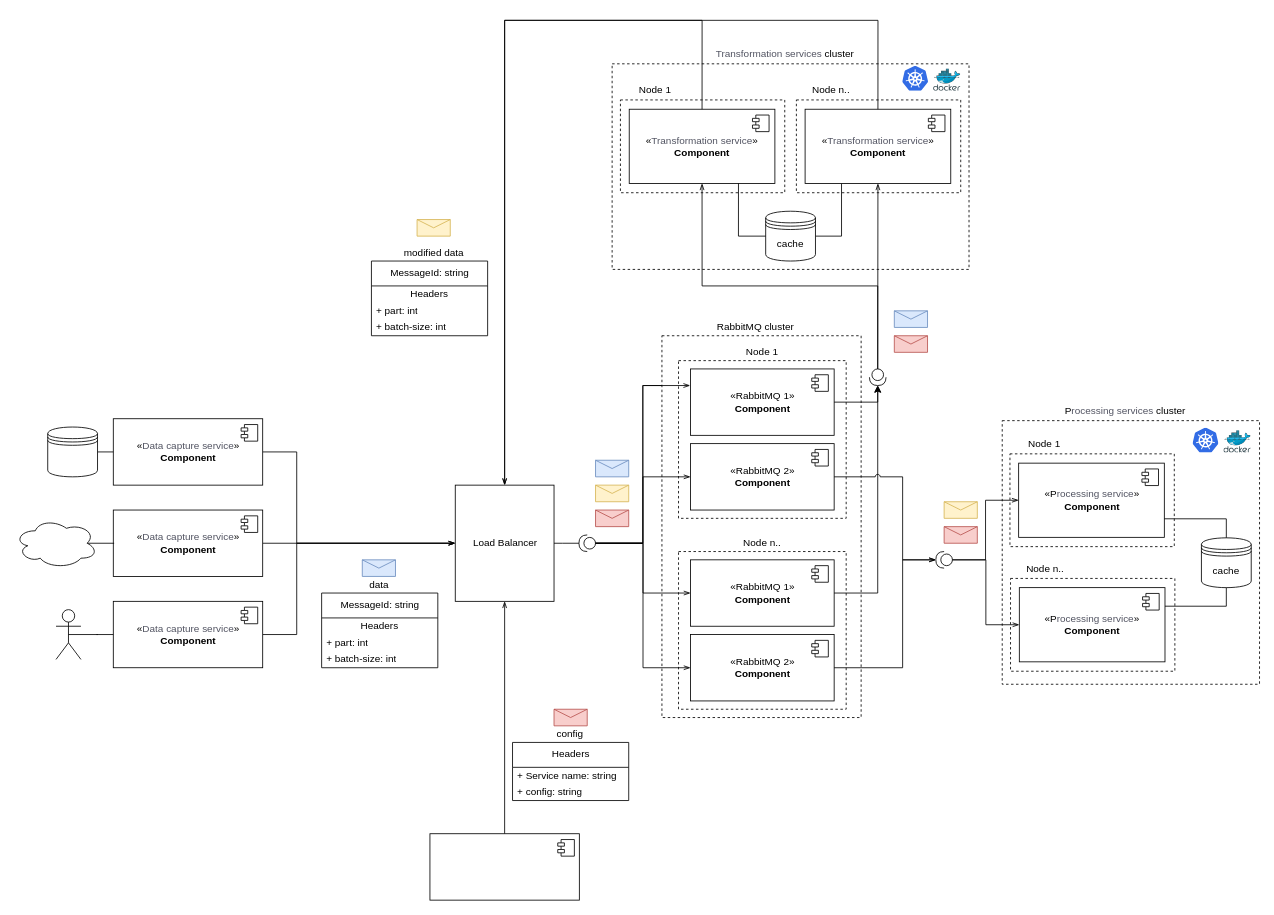
The diagram is 1274 pixels wide and 915 high, and some of its shapes have lost their labels. Here are the shapes that lost their labels. From the top down, the centre of each, then its label:
At pixel 56 543: "Cloud".
At pixel 68 634: "Actor".
At pixel 504 866: "« Orchestrator » Component".
